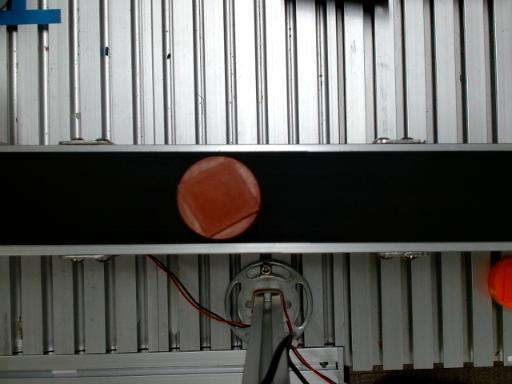Brown_Waper: (177, 156, 260, 239)
Square: (176, 156, 261, 240)
